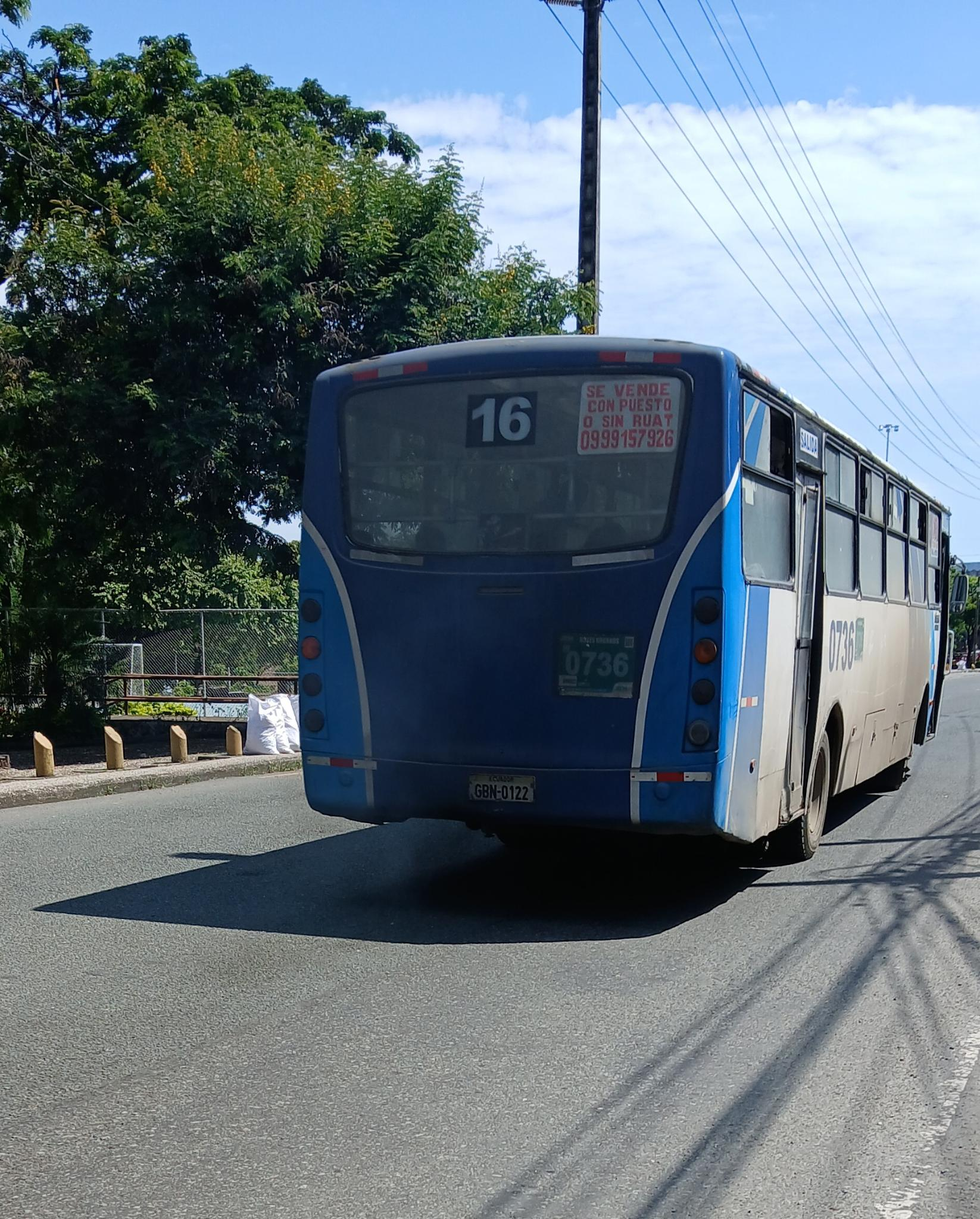license_plate: (468, 774, 535, 802)
